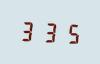five: (59, 20, 78, 45)
three: (18, 18, 37, 43), (39, 19, 58, 44)
